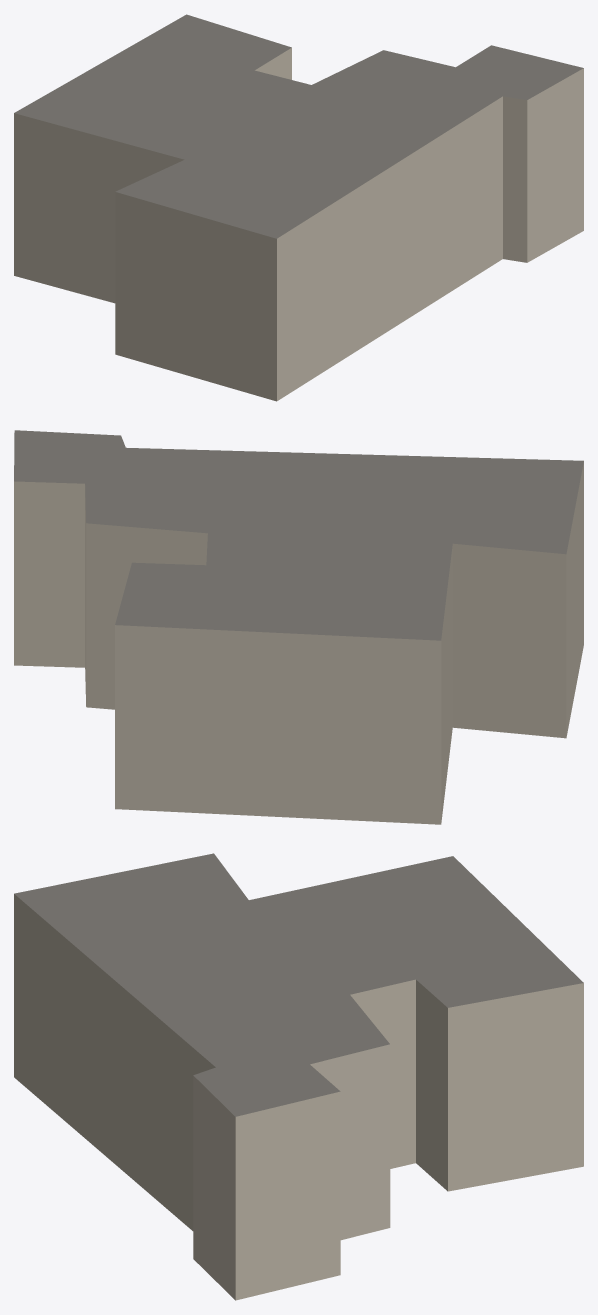
The picture shows the model from 3 angles, top to bottom: view 1: azimuth 30°, elevation 25°; view 2: azimuth 150°, elevation 25°; view 3: azimuth 270°, elevation 25°; orthographic projection. The views are drawn at different scales.
Visible parts, largest first — view 1: HP-w1512911309; view 2: HP-w1512911309; view 3: HP-w1512911309.
Part boxes in pixels (left/top/right/bottom): HP-w1512911309: left=14, top=14, right=583, bottom=401; HP-w1512911309: left=14, top=430, right=583, bottom=824; HP-w1512911309: left=14, top=853, right=583, bottom=1300.
Bounding box in the file's own units: 55.38 × 18 × 50.62.
